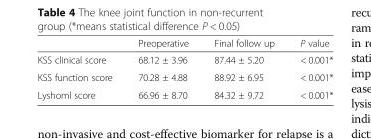table: (36, 37, 332, 100)
table column: (36, 37, 124, 100), (200, 37, 286, 100), (124, 37, 200, 100), (286, 37, 332, 100)
table column header: (36, 37, 332, 50)
table row: (36, 50, 332, 68), (36, 68, 332, 85), (36, 85, 332, 100), (36, 37, 332, 50)
